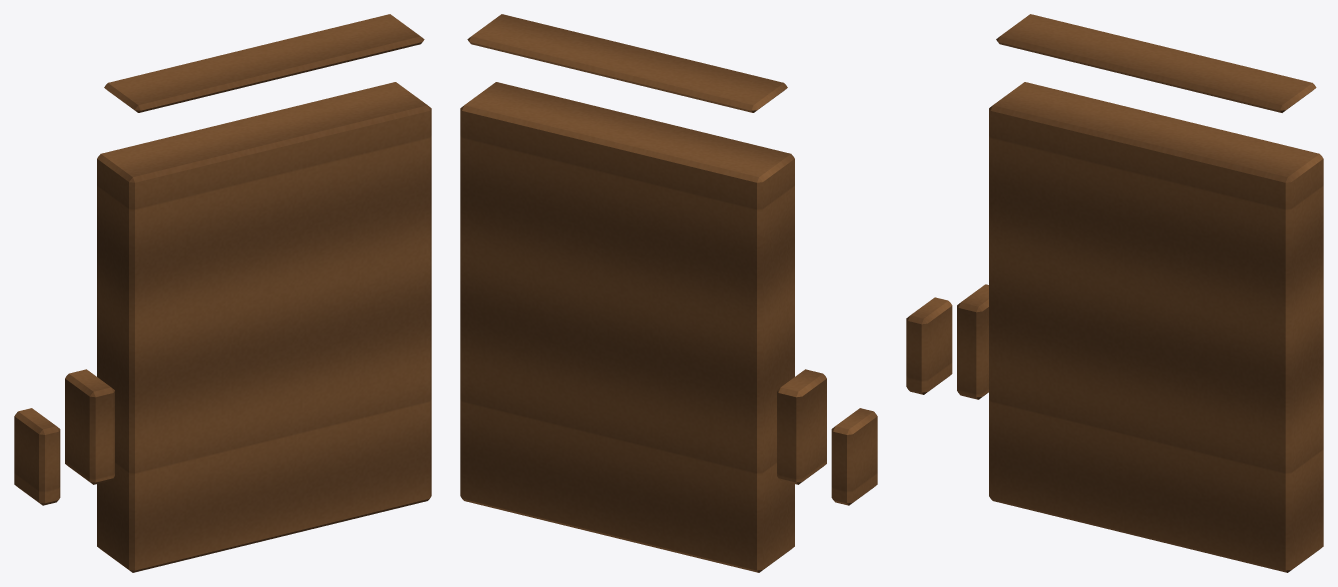
The model's file is Bookshelf.glb.
3 views of the same model, side by side, from view 1: azimuth 30°, elevation 25°; view 2: azimuth 150°, elevation 25°; view 3: azimuth 330°, elevation 25° (orthographic).
Visible parts, largest first — view 1: Bookshelf; view 2: Bookshelf; view 3: Bookshelf.
Part boxes in pixels (bbox=[...]): Bookshelf: bbox=[14, 14, 431, 572]; Bookshelf: bbox=[460, 14, 877, 572]; Bookshelf: bbox=[906, 14, 1323, 572].
Size of the model in its own units: 1.54 by 1.77 by 0.25.
Materials: 1 (1 with a texture image).
